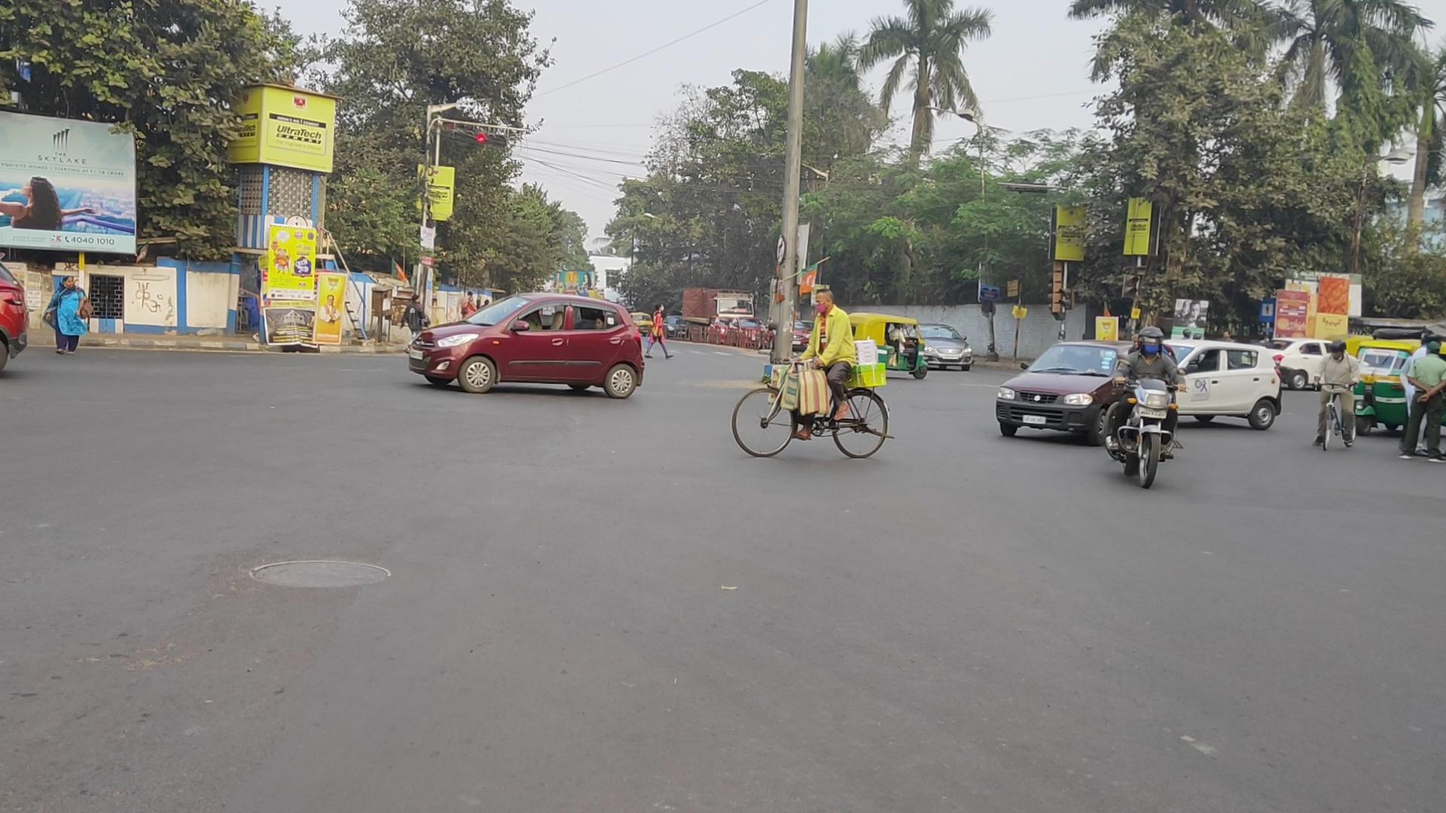Auto: (1351, 340, 1446, 437), (842, 312, 929, 379)
bike: (731, 289, 895, 459), (1105, 326, 1187, 489), (1313, 340, 1359, 451)
car: (407, 291, 646, 400), (996, 340, 1181, 447), (1152, 338, 1284, 430), (1258, 337, 1356, 392), (916, 323, 973, 372), (728, 315, 765, 348)
truck: (682, 287, 754, 343)
